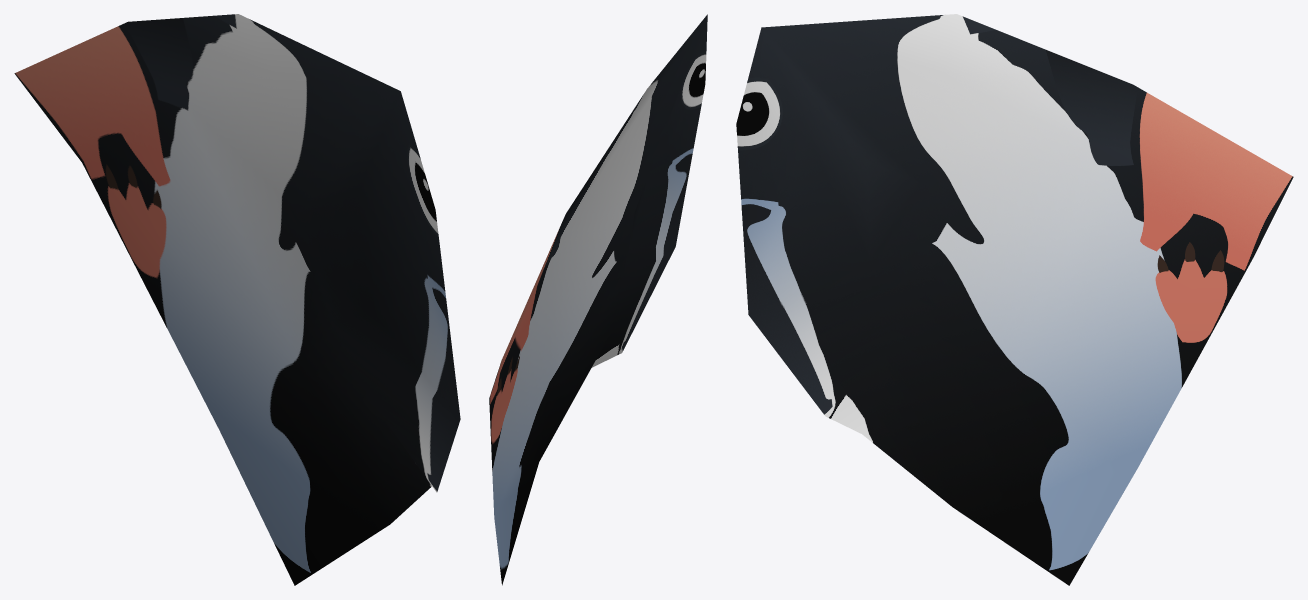
Rendered from Adelie_ScarPatch.fbx.
3 renders of one model, left to right at view 1: azimuth 30°, elevation 25°; view 2: azimuth 150°, elevation 25°; view 3: azimuth 270°, elevation 25°, orthographic. The views are drawn at different scales.
Visible parts, largest first — view 1: Adelie_scar_patch; view 2: Adelie_scar_patch; view 3: Adelie_scar_patch.
Part boxes in pixels (left/top/right/bottom): Adelie_scar_patch: left=14, top=14, right=460, bottom=585; Adelie_scar_patch: left=489, top=14, right=707, bottom=585; Adelie_scar_patch: left=736, top=14, right=1293, bottom=585.
Size of the model in its own units: 0.0125 by 0.0482 by 0.0464.
